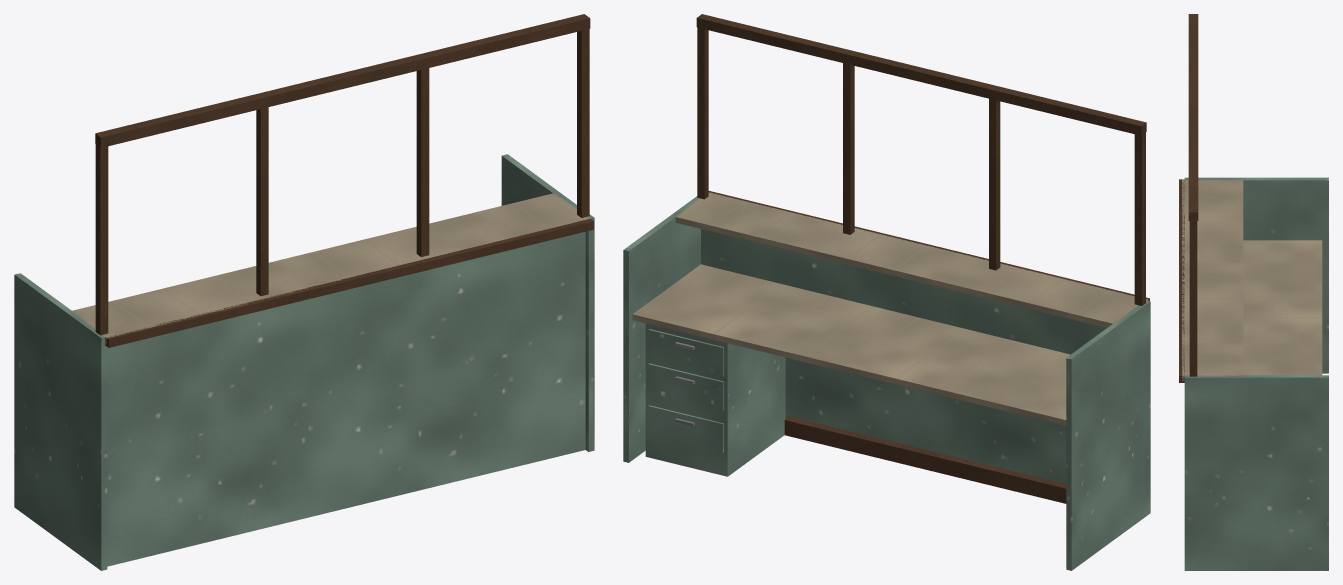
Rendered from Reception_Desk.fbx.
The picture shows the model from 3 angles, left to right: view 1: azimuth 30°, elevation 25°; view 2: azimuth 150°, elevation 25°; view 3: azimuth 270°, elevation 25°; orthographic projection. The views are drawn at different scales.
Parts seen in each view (by area): view 1: ресепшн; view 2: ресепшн; view 3: ресепшн.
Boxes of the visible parts, x1,y1,x2,y2 form: ресепшн: [14, 14, 594, 570]; ресепшн: [623, 14, 1150, 570]; ресепшн: [1179, 14, 1328, 570].
Size of the model in its own units: 2.46 by 2.06 by 0.78.
1 material, 1 textured.
